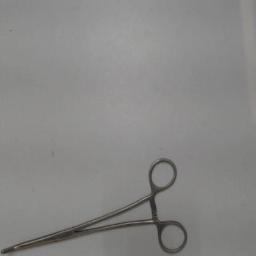Lahey Forceps: (1, 151, 191, 255)
